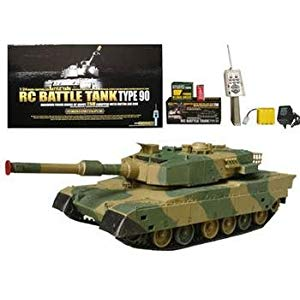Battle Tank: (41, 140, 299, 251)
